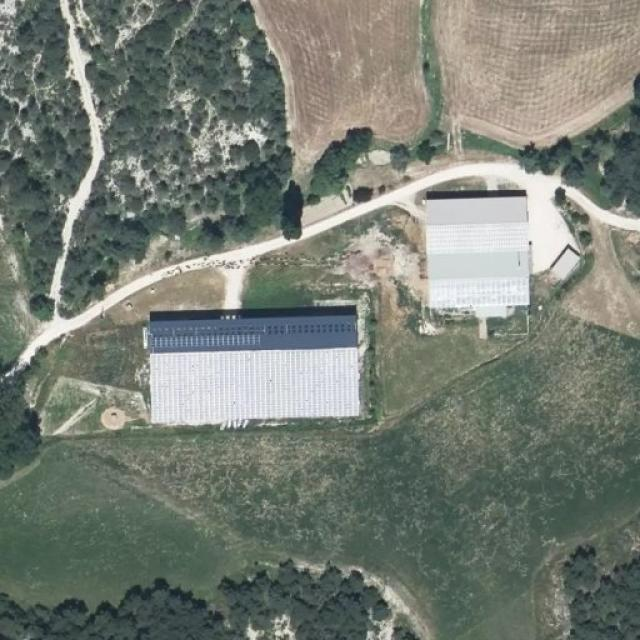ferme: (138, 305, 380, 436), (421, 186, 534, 320)
